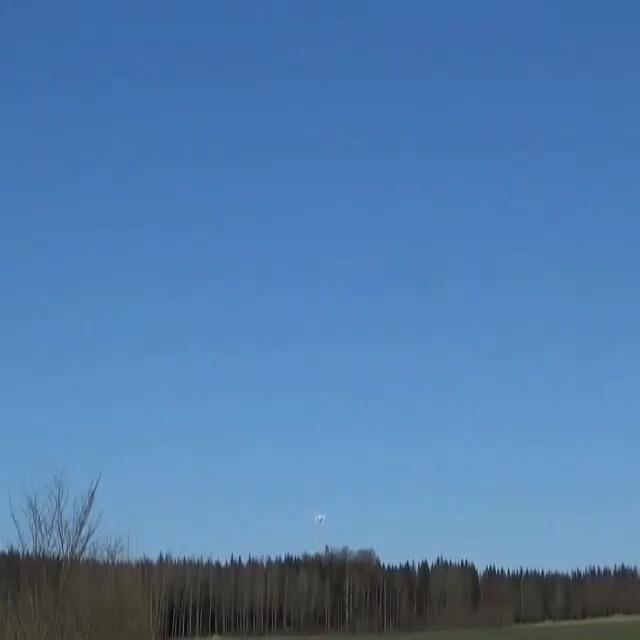drone: (316, 512, 325, 526)
